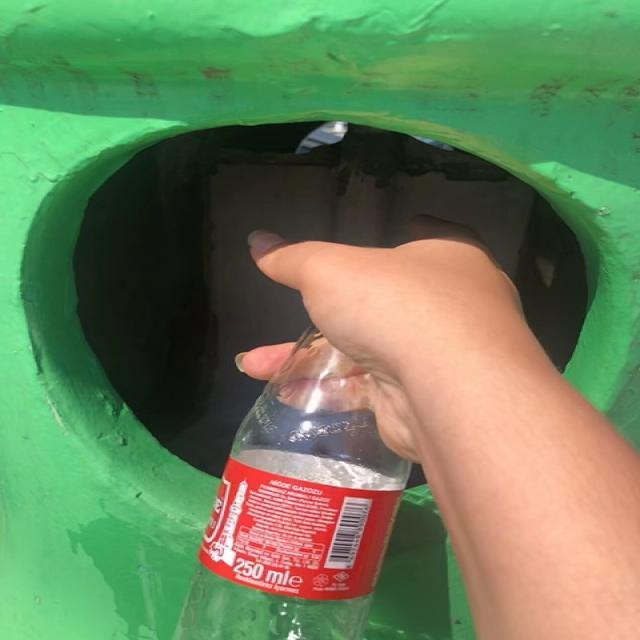Glass: (176, 329, 411, 640)
